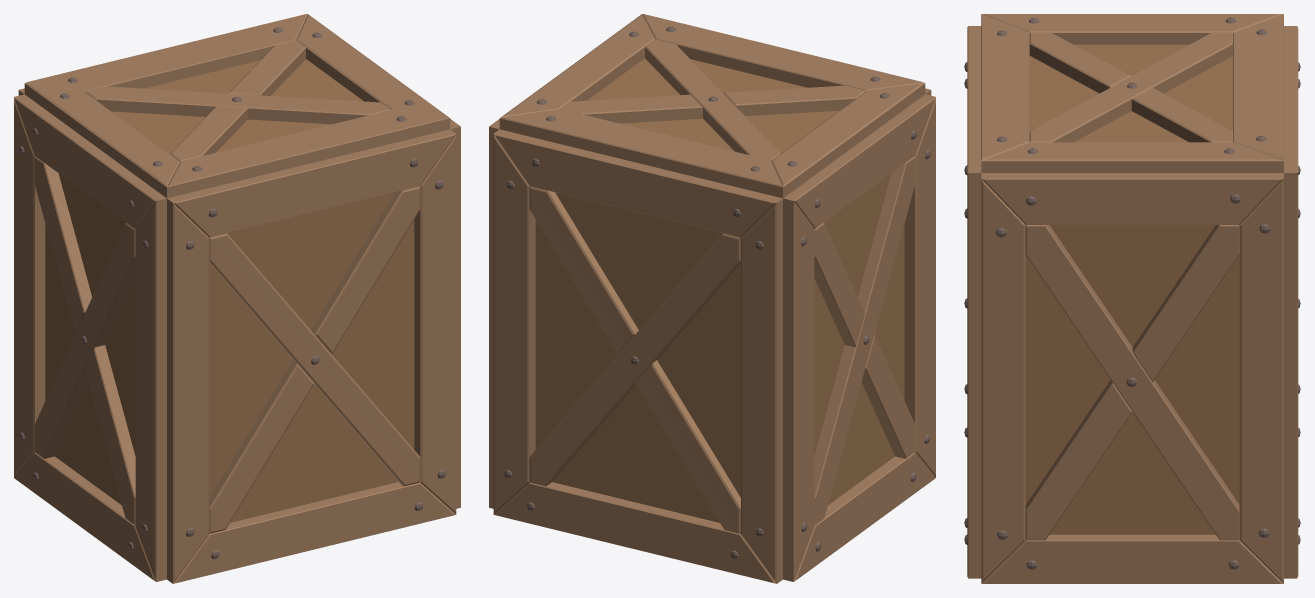
The model's file is LVR_Crate_01.fbx.
3 views of the same model, side by side, from view 1: azimuth 30°, elevation 25°; view 2: azimuth 150°, elevation 25°; view 3: azimuth 270°, elevation 25° (orthographic). The views are drawn at different scales.
Visible parts, largest first — view 1: Crate 01; view 2: Crate 01; view 3: Crate 01.
Part boxes in pixels (x1=…): Crate 01: x1=14, y1=14, x2=460, y2=583; Crate 01: x1=489, y1=14, x2=935, y2=583; Crate 01: x1=964, y1=14, x2=1300, y2=583.
Size of the model in its own units: 48.26 by 58.63 by 42.46.
